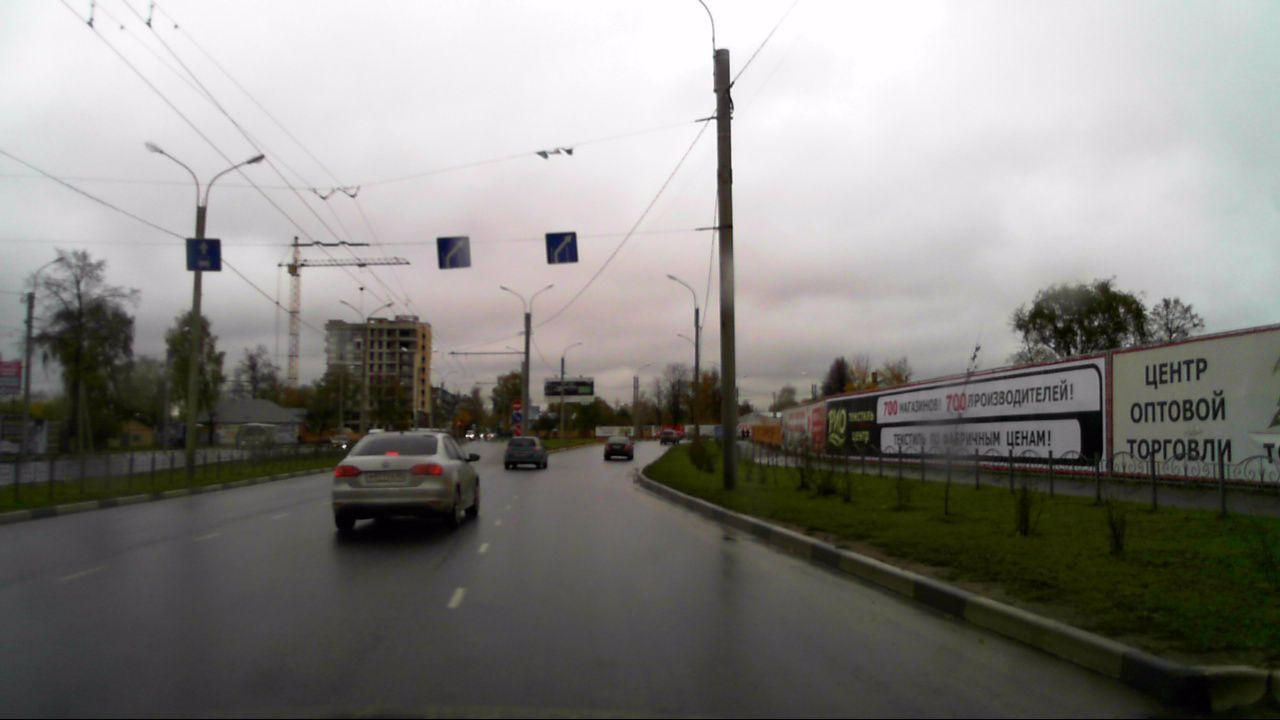5_14_1: (186, 237, 221, 272)
5_15_2: (437, 234, 476, 271), (546, 231, 580, 264)
